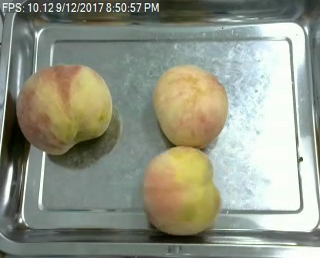Peach: (15, 63, 114, 155), (143, 146, 220, 237), (153, 64, 228, 147)
